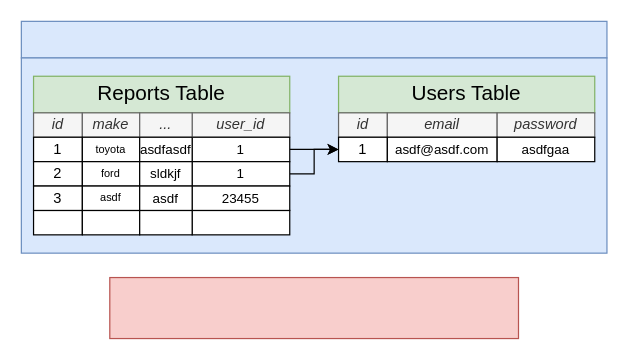
The diagram is 628 pixels wide and 360 high, and some of its shapes have lost their labels. The shapes that lost their labels are listed below. From the top down, each one's centre as x and y in pixels, then its label:
point 313,39: SQLite Database
point 313,307: This is what we need in the database
